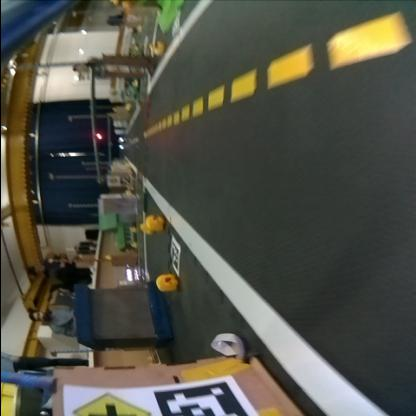Duckie: (154, 277, 175, 292), (145, 215, 162, 232), (150, 42, 164, 56)
QR code: (149, 383, 247, 415), (168, 235, 180, 273)
Traffic light: (94, 134, 100, 140)
